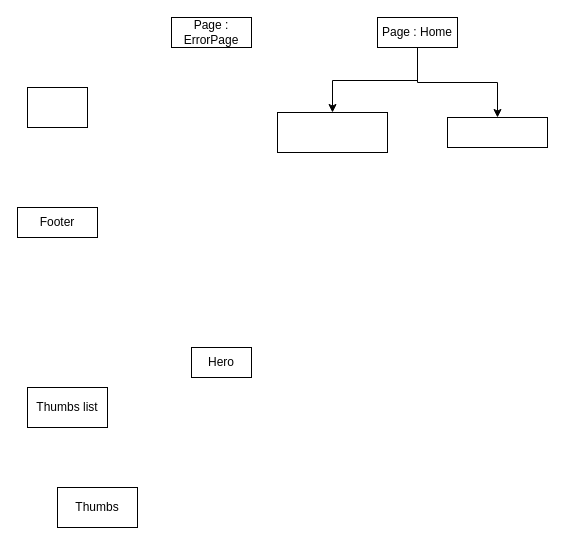
The diagram is 565 pixels wide and 545 high, and some of its shapes have lost their labels. Here are the shapes that lost their labels. From the top down, the centre of each, then its label:
the point at 57,107: Header
the point at 332,132: Page : Fiche
the point at 497,132: Page : About
